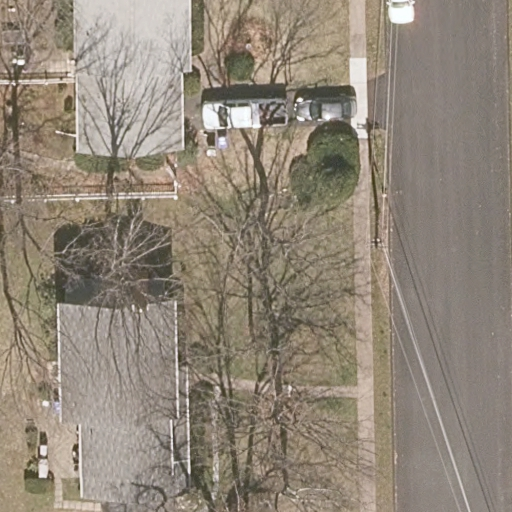DT: (373, 183, 397, 247)
